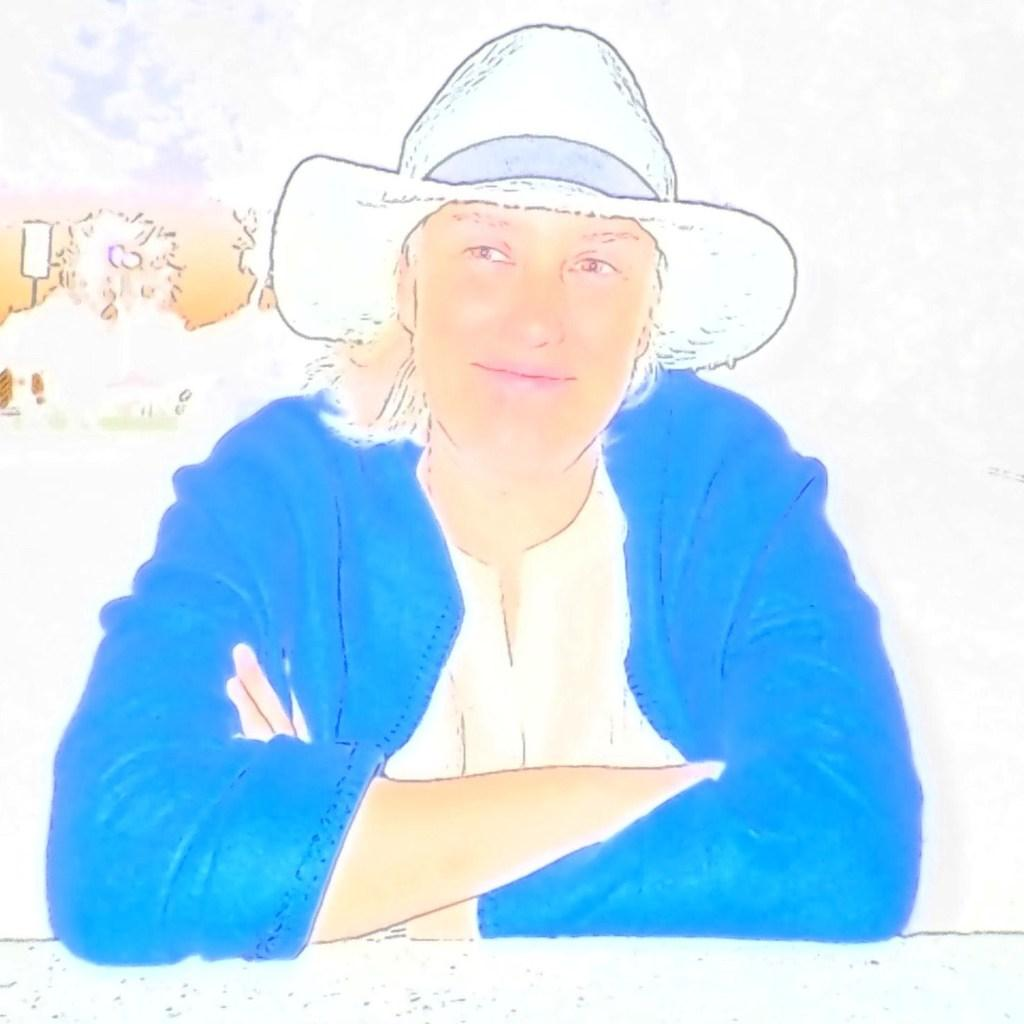Hat: (268, 22, 794, 346)
